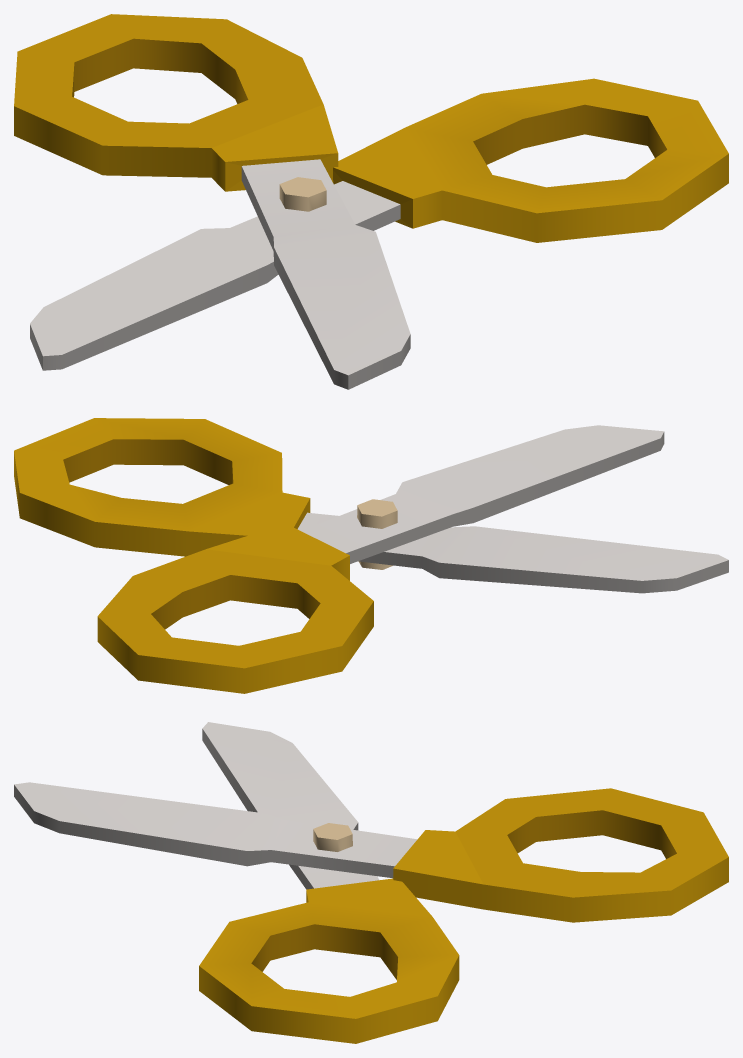
Rendered from Tesoura.fbx.
The picture shows the model from 3 angles, top to bottom: view 1: azimuth 30°, elevation 25°; view 2: azimuth 150°, elevation 25°; view 3: azimuth 270°, elevation 25°; orthographic projection. The views are drawn at different scales.
Parts seen in each view (by area): view 1: Tesoura; view 2: Tesoura; view 3: Tesoura.
Boxes of the visible parts, x1,y1,x2,y2 form: Tesoura: [14, 14, 728, 389]; Tesoura: [14, 418, 728, 693]; Tesoura: [14, 722, 728, 1043].
Size of the model in its own units: 15.81 by 1.26 by 15.63.
